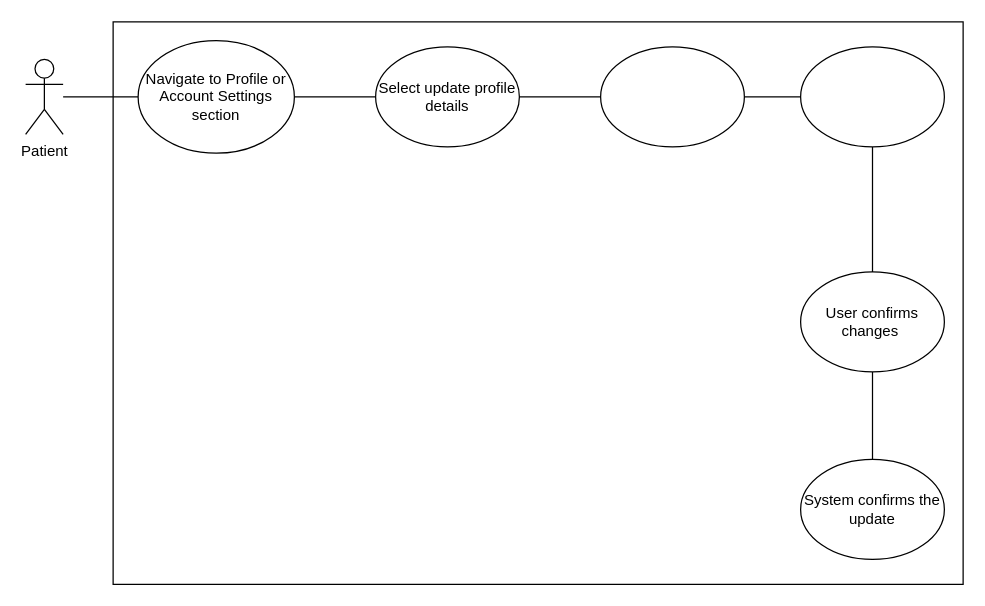
The diagram is 985 pixels wide and 606 high, and some of its shapes have lost their labels. Each missing label, with the centre of its shape:
Modify the information: point (671, 96)
System validates the details: point (871, 96)
